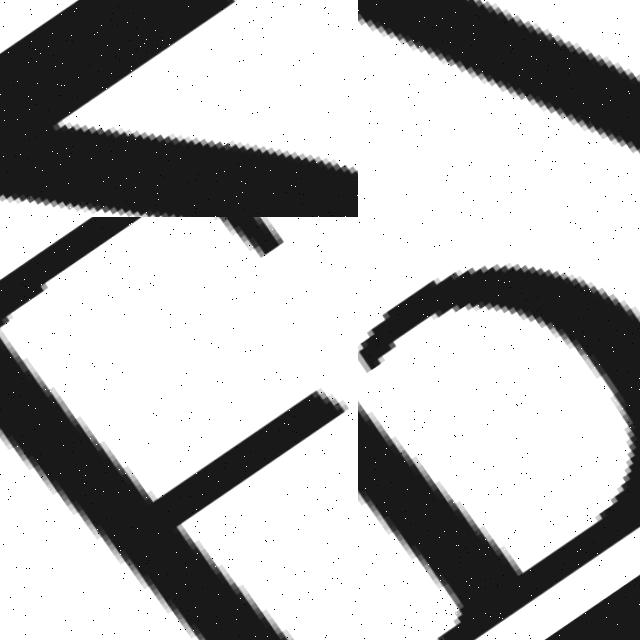2: (0, 0, 358, 217)
7: (358, 0, 640, 217)
E: (0, 345, 340, 640)
P: (358, 217, 640, 640)
